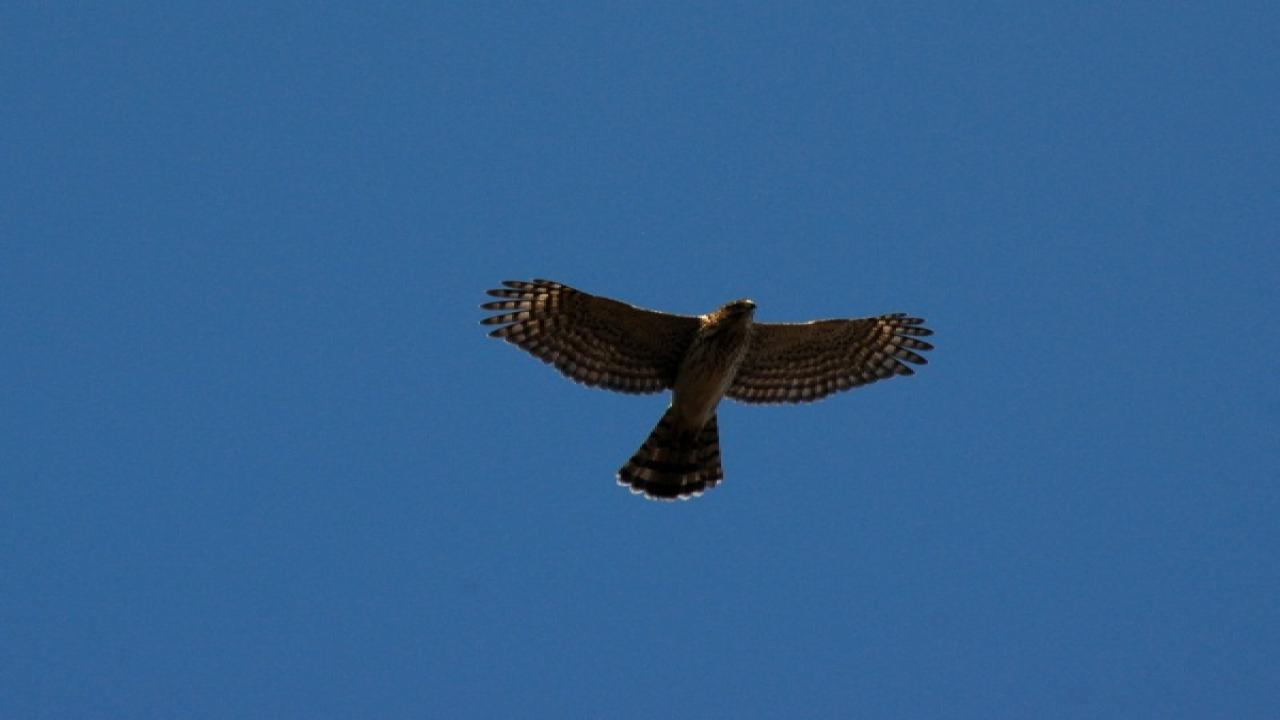Bird: (467, 270, 954, 506)
